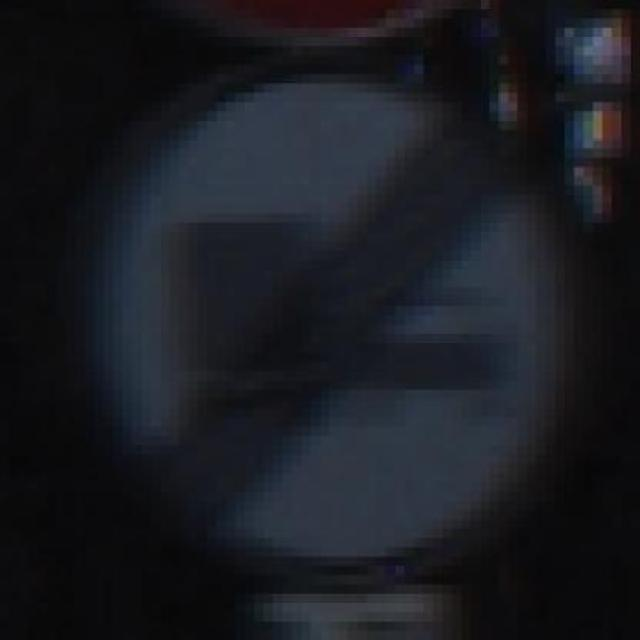Overtaking by trucks is prohibited: (47, 46, 602, 585)
